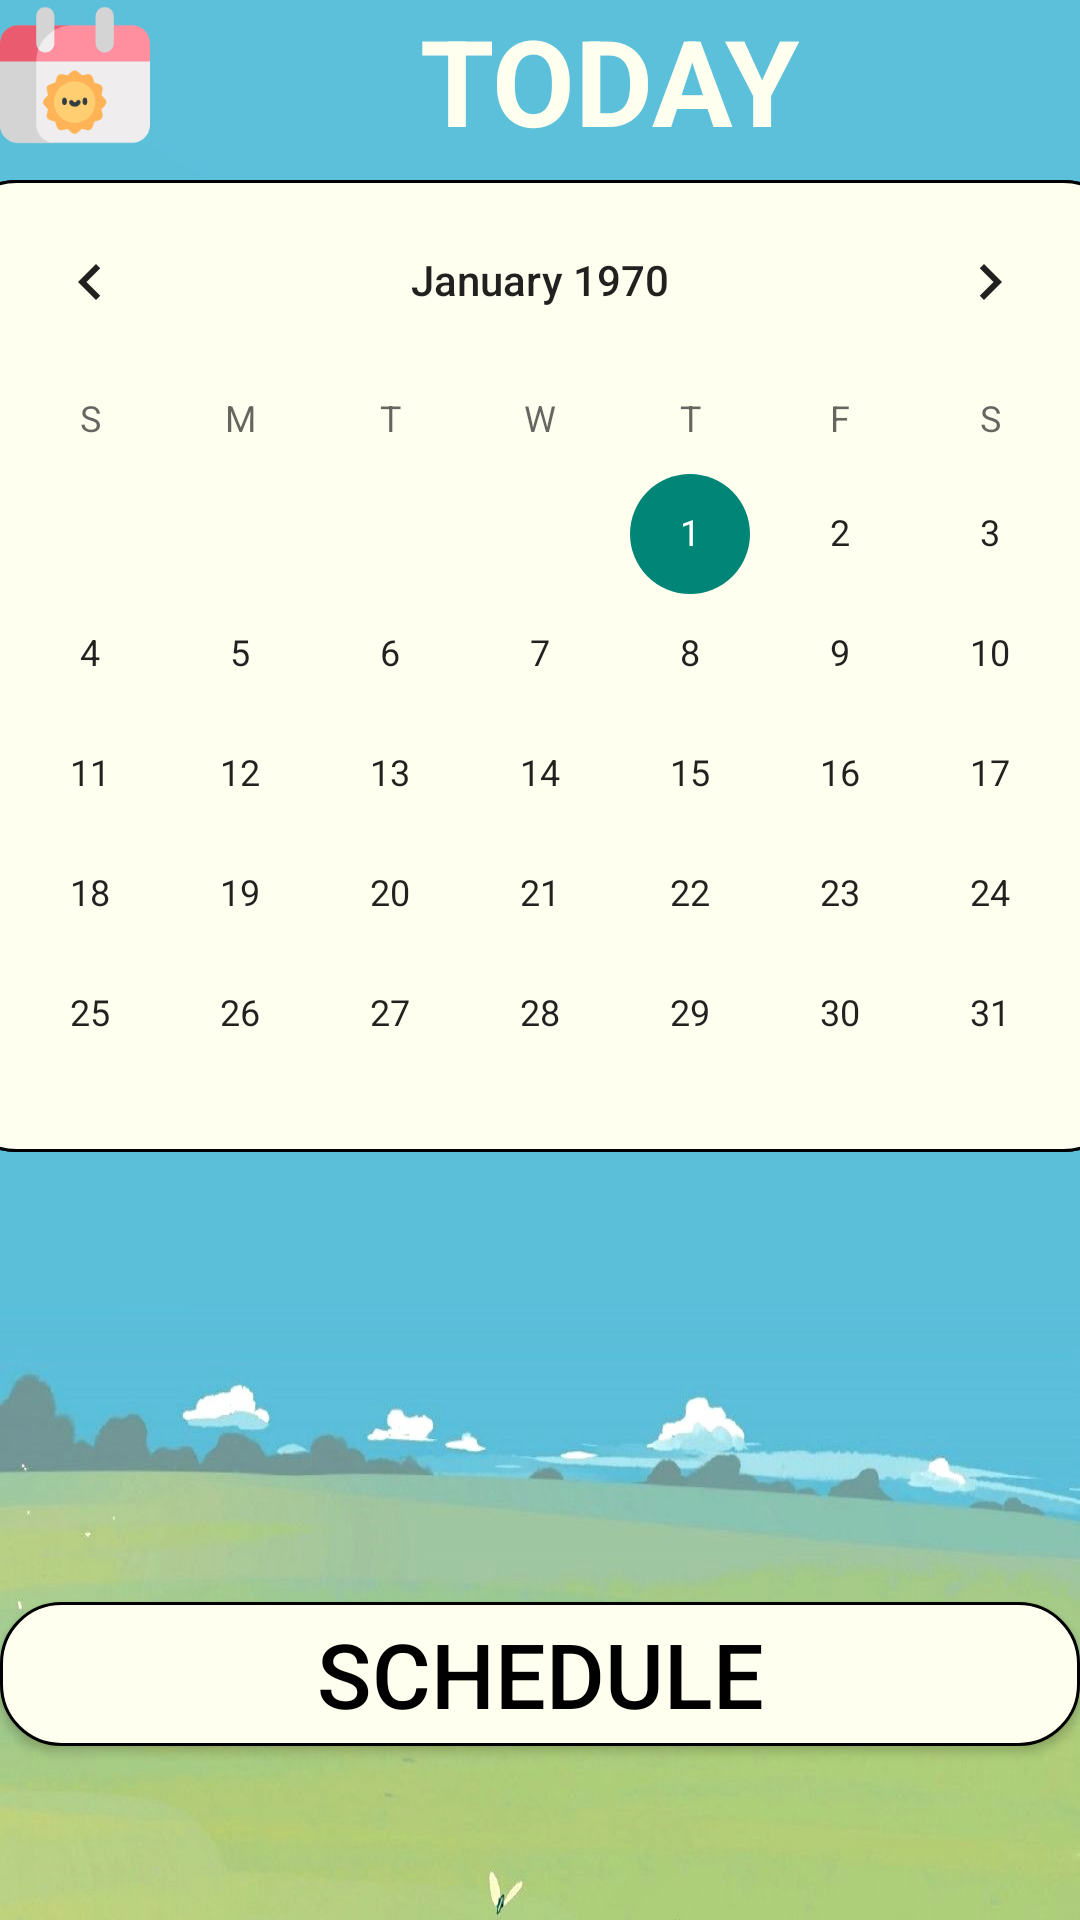

Icon bounding boxes for this 1080 × 1920 phone screenshot, format (x1, y1, x2, y2):
calendar: (0, 7, 150, 143)
